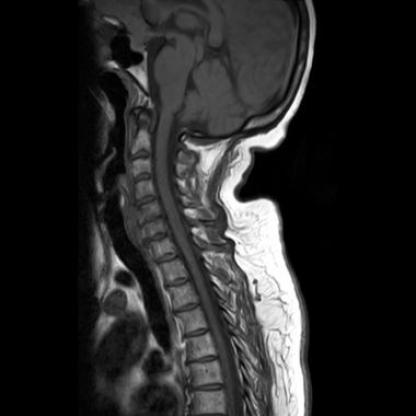Disc Bulgerotation: (143, 230, 171, 244), (139, 213, 166, 226)
Osteophytesrotation: (143, 230, 171, 244), (140, 213, 166, 226)
